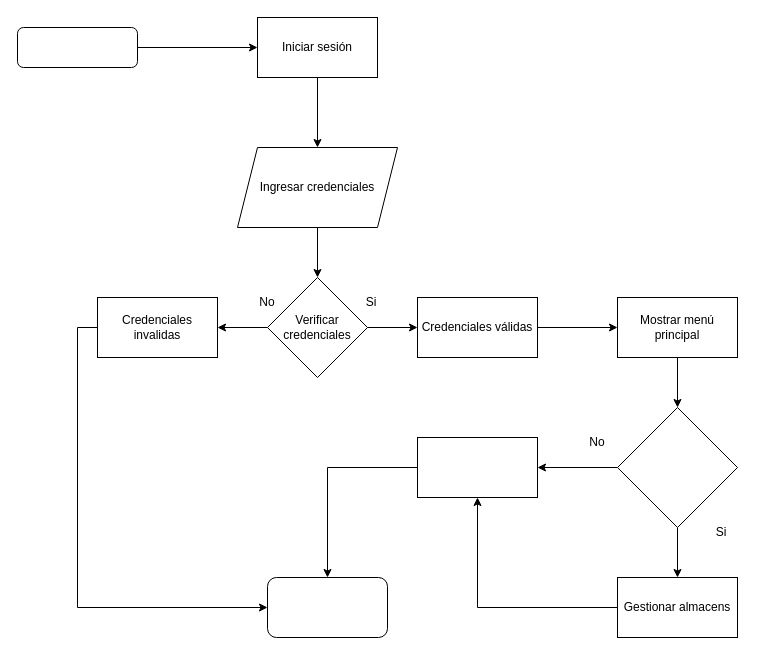
The diagram is 769 pixels wide and 655 high, and some of its shapes have lost their labels. Each missing label, with the box of its shape:
Acceder a administraciones: (616, 406, 738, 528)
Cerrar sesión: (416, 436, 538, 498)
Fin: (266, 576, 388, 638)
Inicio: (16, 26, 138, 68)
